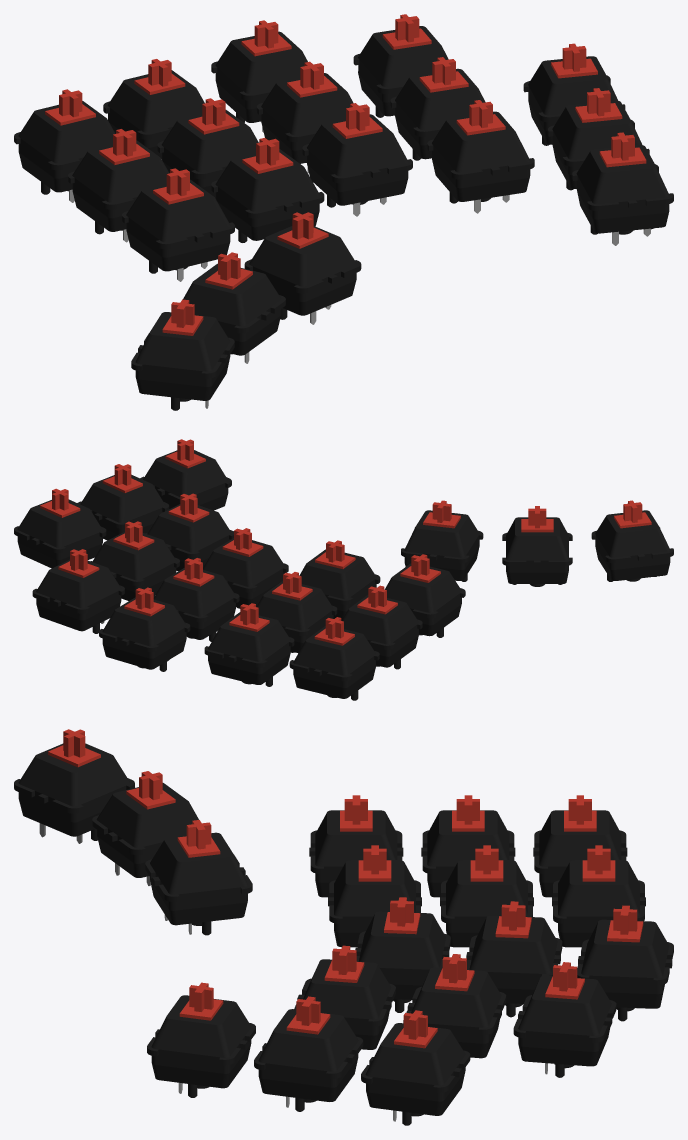
File: switches.glb
3 renders of one model, top to bottom at view 1: azimuth 30°, elevation 25°; view 2: azimuth 150°, elevation 25°; view 3: azimuth 270°, elevation 25°, orthographic. The views are drawn at different scales.
Parts seen in each view (by area): view 1: =>[0:1:1:3] (×18); view 2: =>[0:1:1:3] (×18); view 3: =>[0:1:1:3] (×18).
Part boxes in pixels (left/top/right/bottom): =>[0:1:1:3] (×18): left=14, top=14, right=673, bottom=410; =>[0:1:1:3] (×18): left=14, top=439, right=673, bottom=700; =>[0:1:1:3] (×18): left=14, top=729, right=673, bottom=1125.
Size of the model in its own units: 0.1329 by 0.0185 by 0.1123.
